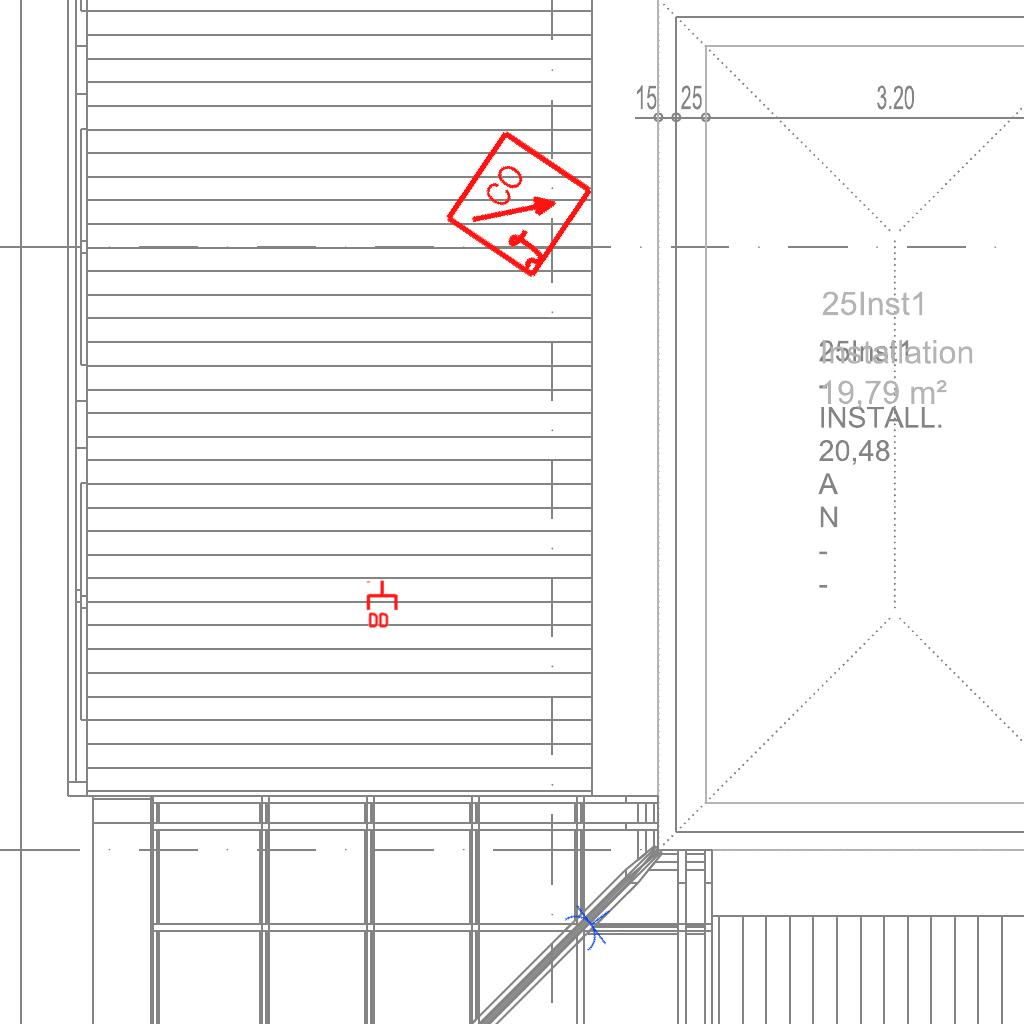Datenanschluss_zweifach: (366, 579, 400, 630)
ROA_Rauchmelder_optisch_mit_Signalgeber_(Sockelsirene): (442, 126, 599, 283)
Schukosteckdose_einfach: (559, 890, 625, 957)
